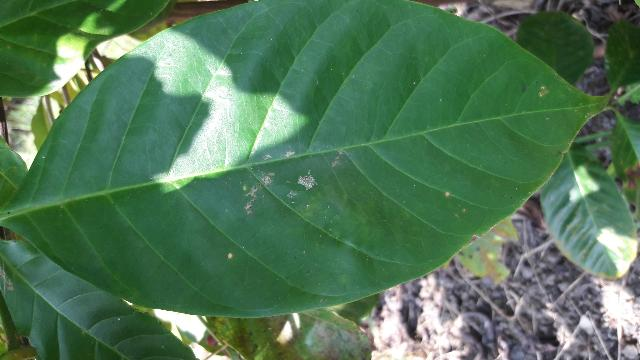healthy: (0, 1, 620, 319)
